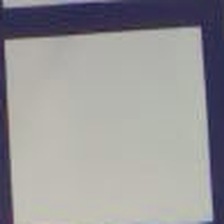empty: (7, 39, 213, 224)
